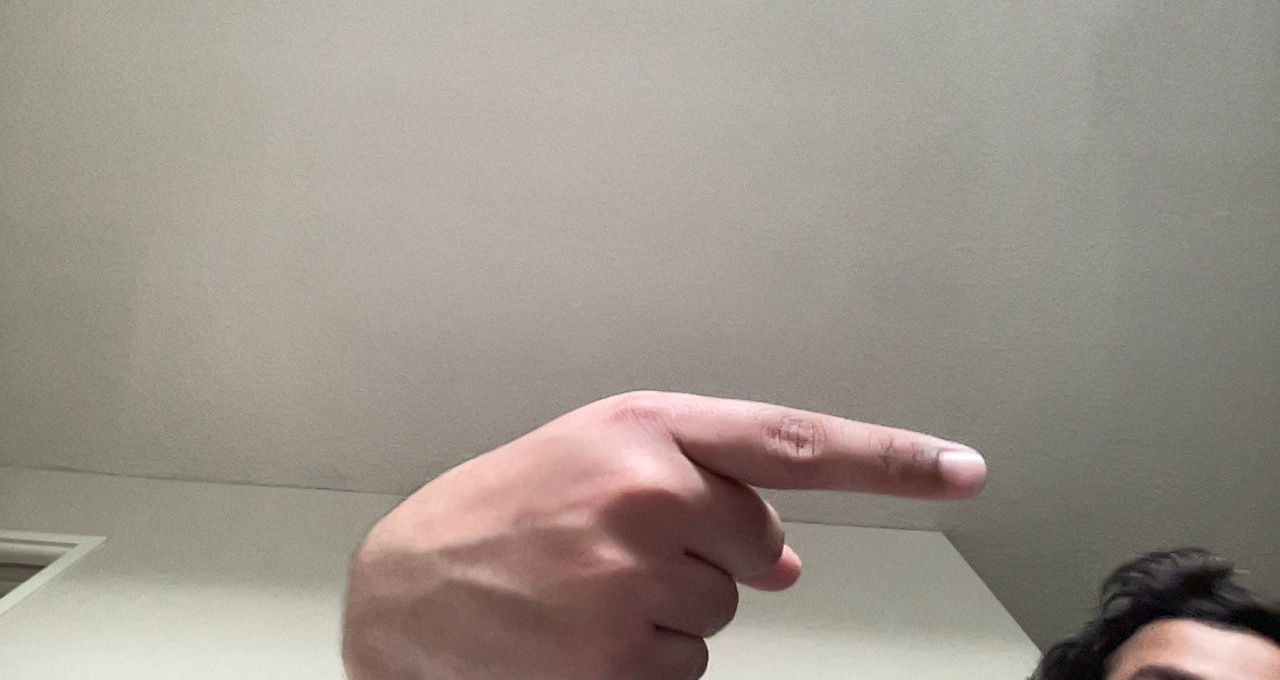fingerleft: (330, 372, 954, 676)
